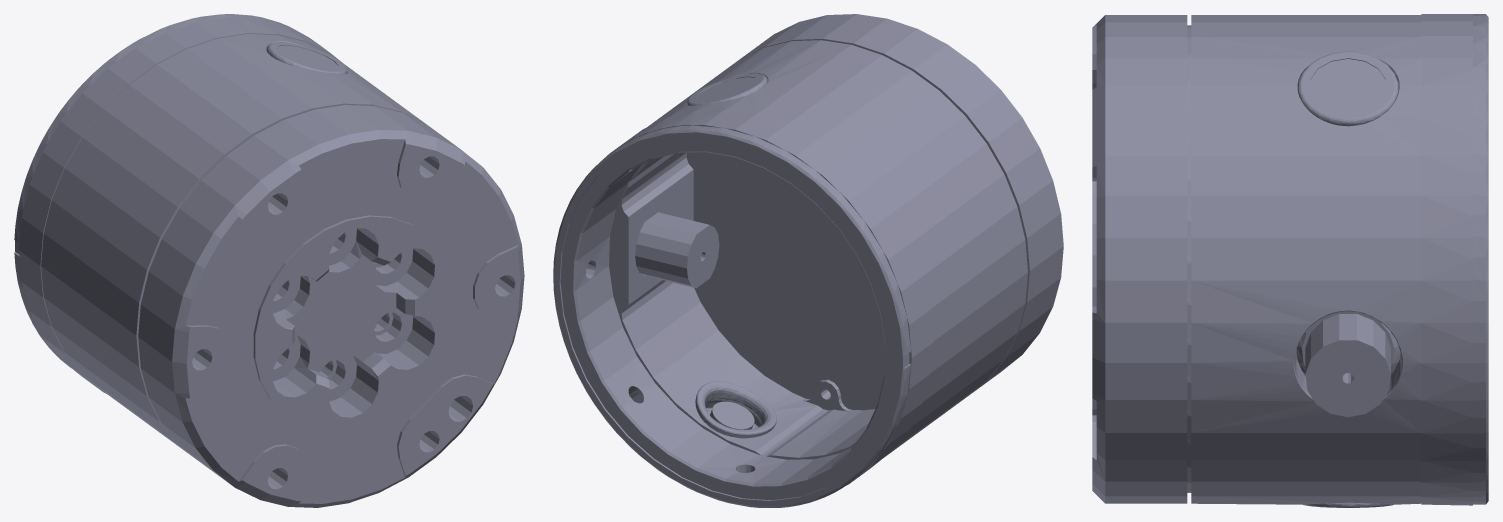
File: arm2_link7_visuals.obj
The picture shows the model from 3 angles, left to right: view 1: azimuth 30°, elevation 25°; view 2: azimuth 150°, elevation 25°; view 3: azimuth 270°, elevation 25°; orthographic projection. The views are drawn at different scales.
Size of the model in its own units: 0.0613 by 0.0574 by 0.046.
